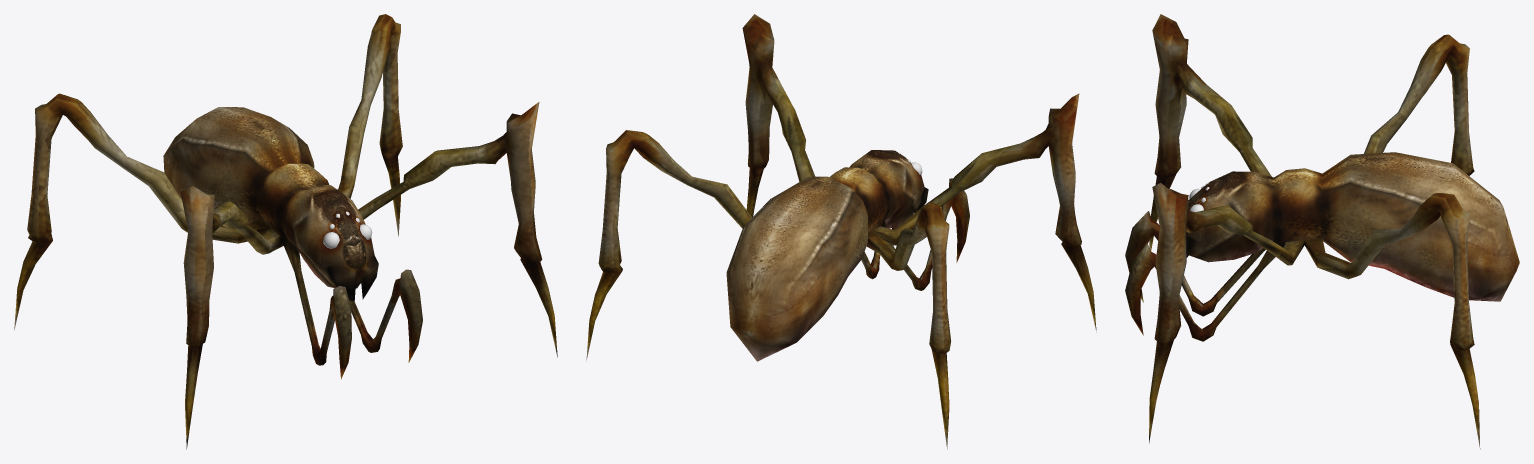
Rendered from spider.fbx.
3 views of the same model, side by side, from view 1: azimuth 30°, elevation 25°; view 2: azimuth 150°, elevation 25°; view 3: azimuth 270°, elevation 25° (orthographic). The views are drawn at different scales.
Visible parts, largest first — view 1: HuntsmanSpider; view 2: HuntsmanSpider; view 3: HuntsmanSpider.
Part boxes in pixels (x1,y1,x2,y2): HuntsmanSpider: (14, 14, 557, 449); HuntsmanSpider: (586, 14, 1096, 449); HuntsmanSpider: (1125, 14, 1519, 449).
Bounding box in the file's own units: 199 × 128 × 177.
Materials: 2 (1 with a texture image).
